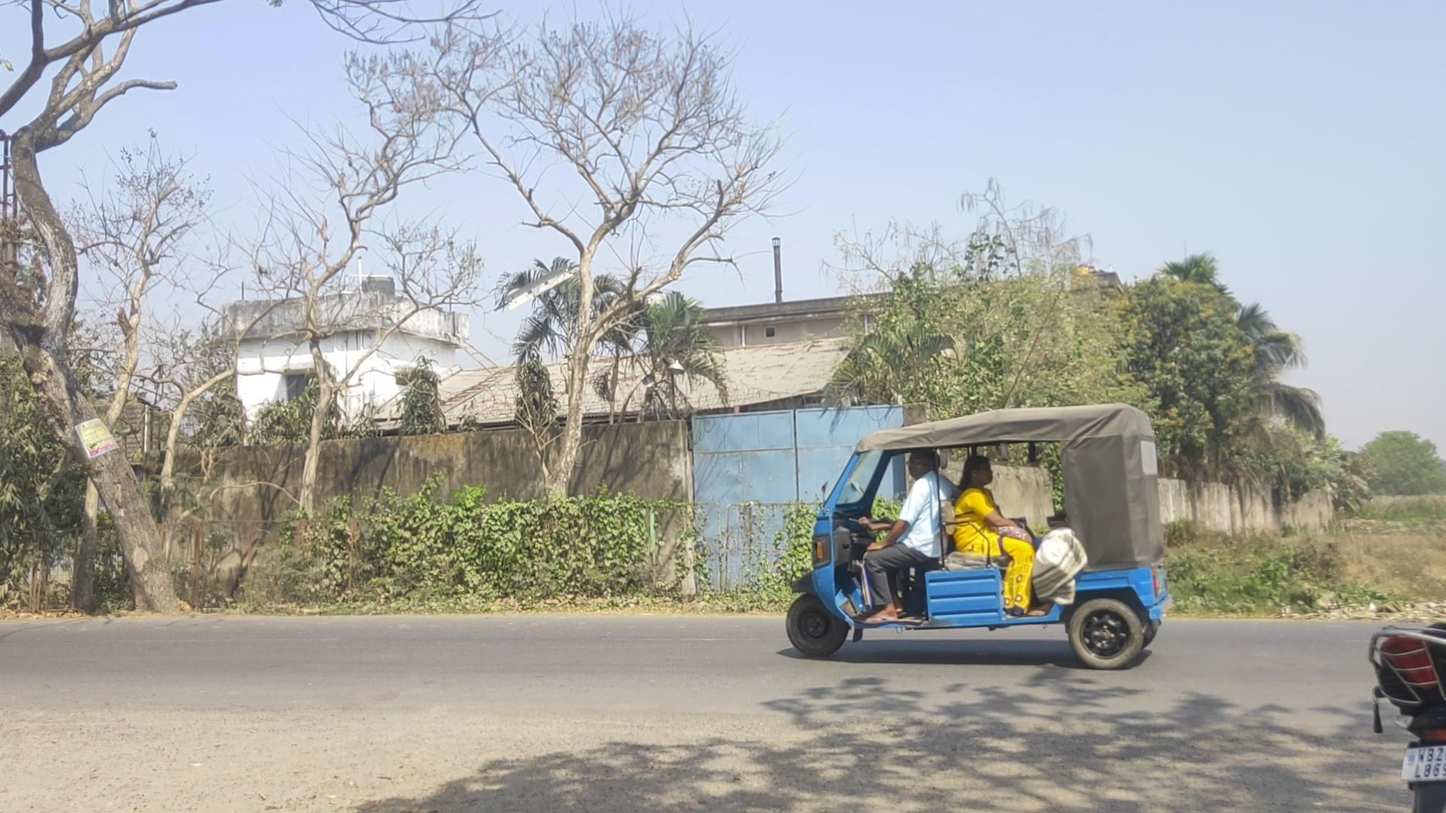Auto: (786, 403, 1170, 671)
